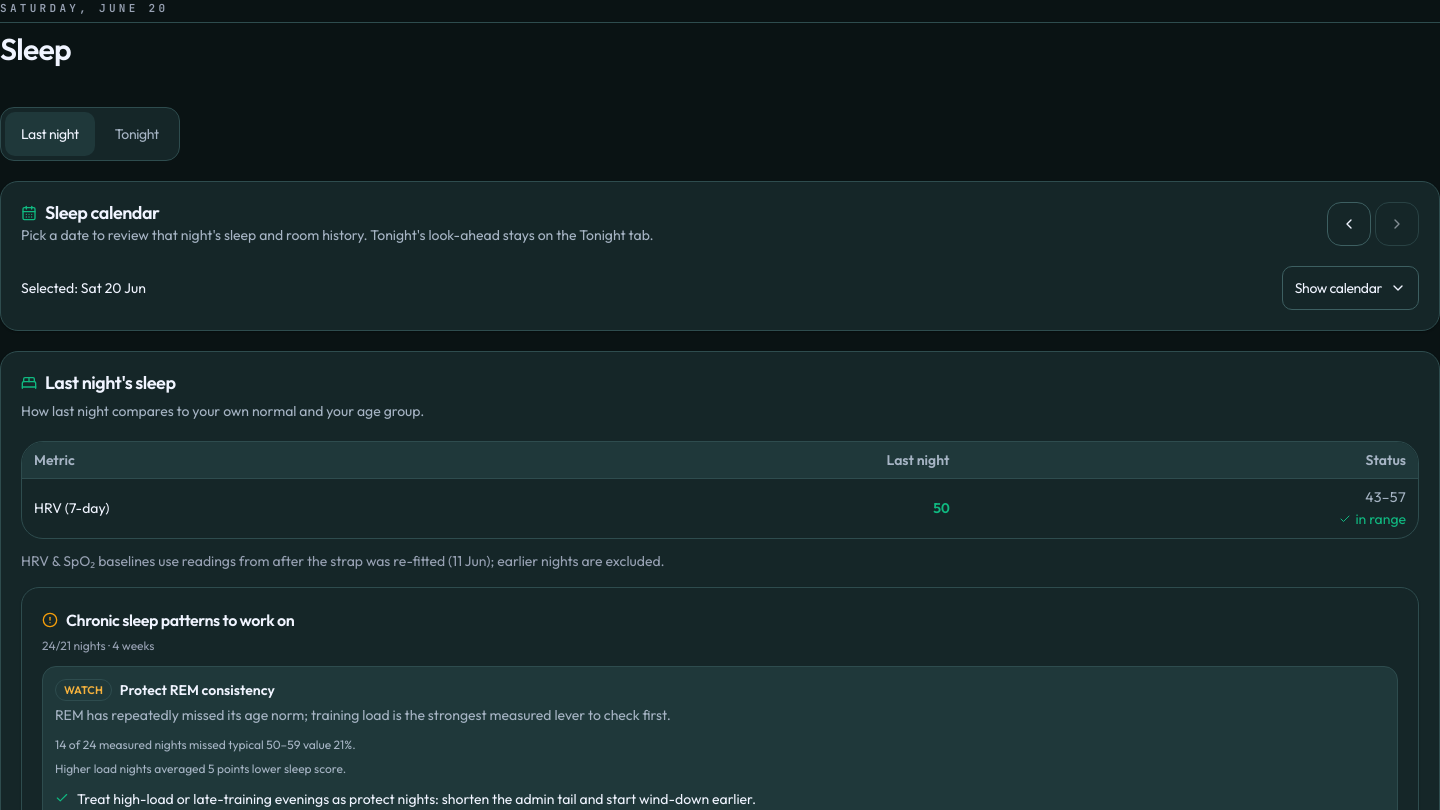
Test: SleepPage › shows a holiday-away placeholder on Tonight instead of sleep prep and climate
Click the tab "Tonight": (137, 134) x1=99 y1=112 x2=175 y2=156
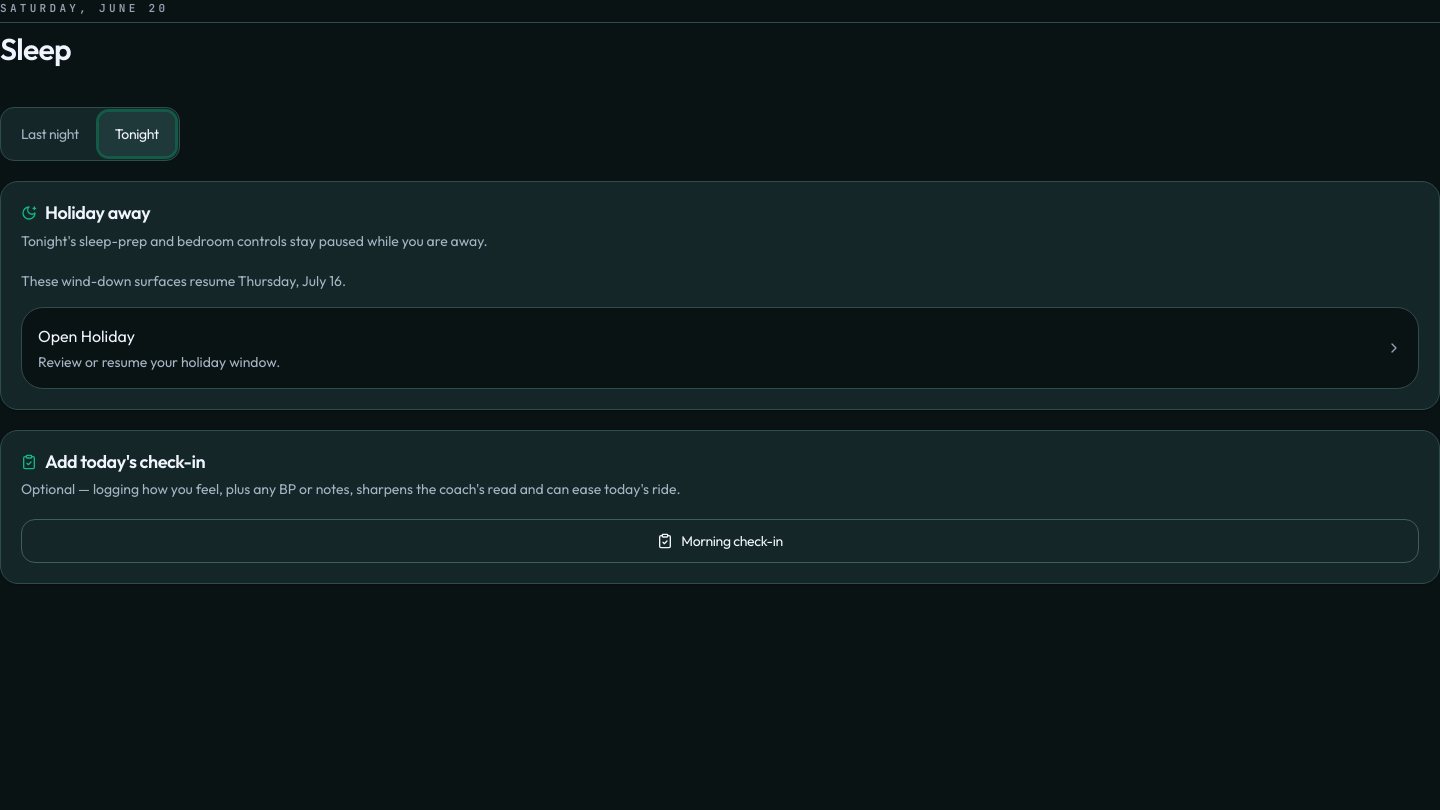
Expected: the heading "Holiday away" is shown, x1=21 y1=201 x2=150 y2=224
Now the link "Open Holiday Review or resume your holiday window." is shown, box x1=21 y1=306 x2=1419 y2=388
